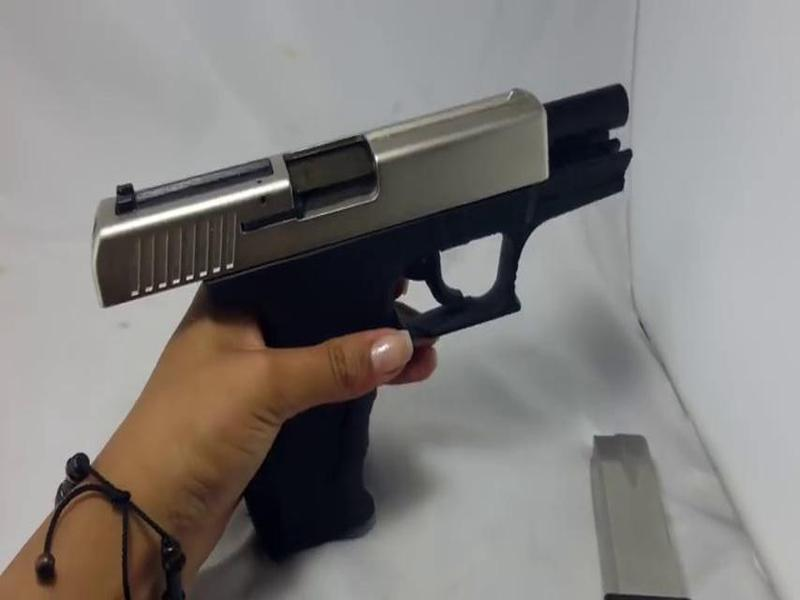Pistola: (82, 65, 657, 559)
